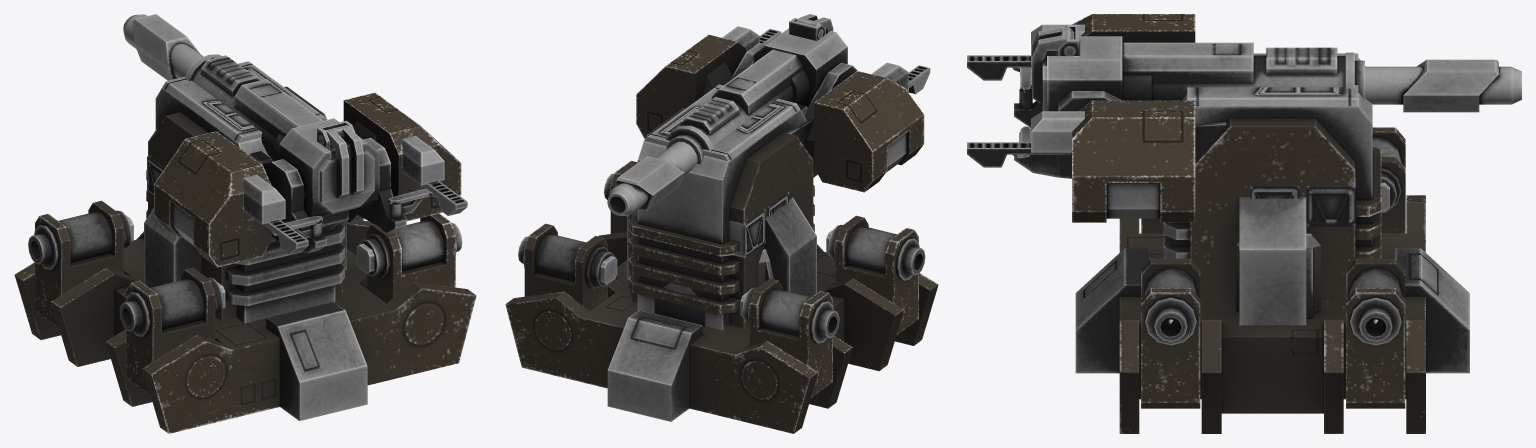
The model's file is Outpost_Both.FBX.
3 views of the same model, side by side, from view 1: azimuth 30°, elevation 25°; view 2: azimuth 150°, elevation 25°; view 3: azimuth 270°, elevation 25° (orthographic). The views are drawn at different scales.
Parts seen in each view (by area): view 1: base, launcher, mantlet, lammobin, leg3, leg4, leg2, rammobin, breechblock, barrelend, launchdoor1, rammotray (+9 smaller); view 2: base, launcher, mantlet, lammobin, leg3, leg4, leg1, rammobin, barrelend, launchdoor1, turret, extender (+7 smaller); view 3: base, launcher, mantlet, rammobin, leg2, leg1, barrelend, launchdoor2, lammobin, turret, leg4, rammotray (+5 smaller).
Boxes of the visible parts, x1,y1,x2,y2 form: base: (14, 220, 476, 433); launcher: (144, 86, 346, 323); mantlet: (185, 54, 406, 253); lammobin: (154, 131, 271, 267); leg3: (119, 267, 223, 395); leg4: (28, 200, 131, 328); leg2: (359, 213, 462, 303); rammobin: (343, 92, 461, 221); breechblock: (320, 125, 374, 213); barrelend: (123, 14, 203, 80); launchdoor1: (162, 76, 262, 143); rammotray: (402, 136, 444, 185); base: (505, 232, 938, 433); launcher: (627, 108, 816, 330); mantlet: (665, 28, 857, 177); lammobin: (814, 71, 924, 192); leg3: (828, 215, 925, 335); leg4: (742, 278, 839, 397); leg1: (518, 223, 614, 311); rammobin: (636, 34, 746, 138); barrelend: (607, 142, 697, 216); launchdoor1: (702, 99, 799, 161); turret: (629, 104, 807, 262); extender: (654, 260, 773, 326); base: (1075, 195, 1469, 433); launcher: (1163, 57, 1381, 325); mantlet: (1014, 36, 1364, 178); rammobin: (1072, 100, 1195, 222); leg2: (1141, 258, 1200, 408); leg1: (1346, 258, 1405, 408); barrelend: (1365, 59, 1521, 112); launchdoor2: (1187, 85, 1358, 106); lammobin: (1072, 14, 1195, 42); turret: (1236, 178, 1355, 248); leg4: (1372, 127, 1405, 233); rammotray: (1031, 111, 1084, 152).
Bounding box in the file's own units: 66.53 × 55.7 × 87.08.
1 material, 1 textured.
